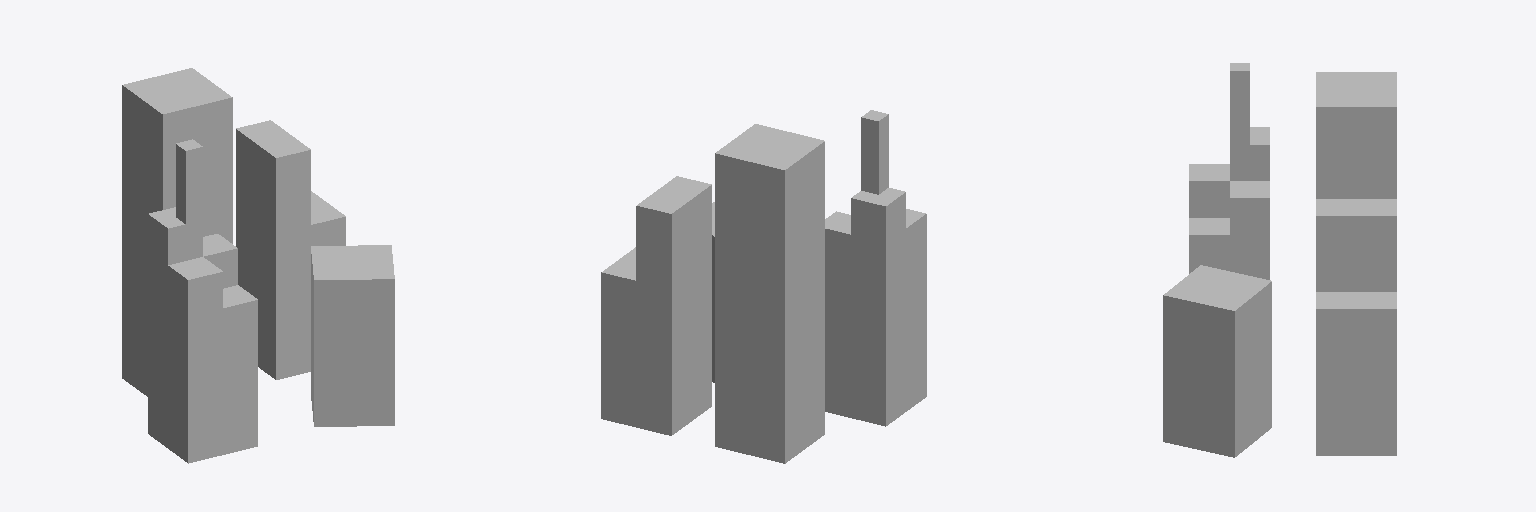
The model's file is s_ToyBuildings.obj.
3 renders of one model, left to right at view 1: azimuth 30°, elevation 25°; view 2: azimuth 150°, elevation 25°; view 3: azimuth 270°, elevation 25°, orthographic.
Visible parts, largest first — view 1: Cube.003_Cube.008, Cube.004_Cube.009, Cube.005_Cube.010, Cube.006_Cube.011; view 2: Cube.004_Cube.009, Cube.003_Cube.008, Cube.005_Cube.010, Cube.006_Cube.011; view 3: Cube.005_Cube.010, Cube.006_Cube.011, Cube.003_Cube.008, Cube.004_Cube.009.
Boxes of the visible parts, x1=… form: Cube.003_Cube.008: x1=148, y1=139, x2=257, y2=463; Cube.004_Cube.009: x1=122, y1=68, x2=232, y2=396; Cube.005_Cube.010: x1=236, y1=120, x2=345, y2=379; Cube.006_Cube.011: x1=311, y1=245, x2=394, y2=426; Cube.004_Cube.009: x1=715, y1=124, x2=824, y2=463; Cube.003_Cube.008: x1=825, y1=110, x2=926, y2=426; Cube.005_Cube.010: x1=601, y1=176, x2=711, y2=435; Cube.006_Cube.011: x1=712, y1=202, x2=714, y2=382; Cube.005_Cube.010: x1=1316, y1=199, x2=1396, y2=455; Cube.006_Cube.011: x1=1163, y1=265, x2=1271, y2=457; Cube.003_Cube.008: x1=1189, y1=63, x2=1269, y2=279; Cube.004_Cube.009: x1=1316, y1=72, x2=1396, y2=198.
Size of the model in its own units: 0.3226 by 0.4 by 0.2886.